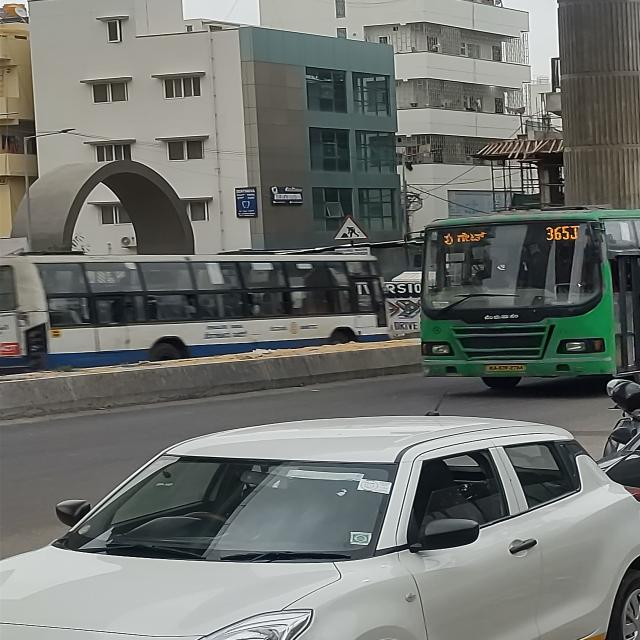bus: (0, 243, 388, 363), (406, 212, 640, 384)
display: (434, 223, 598, 248)
dnumber: (542, 224, 584, 243)
